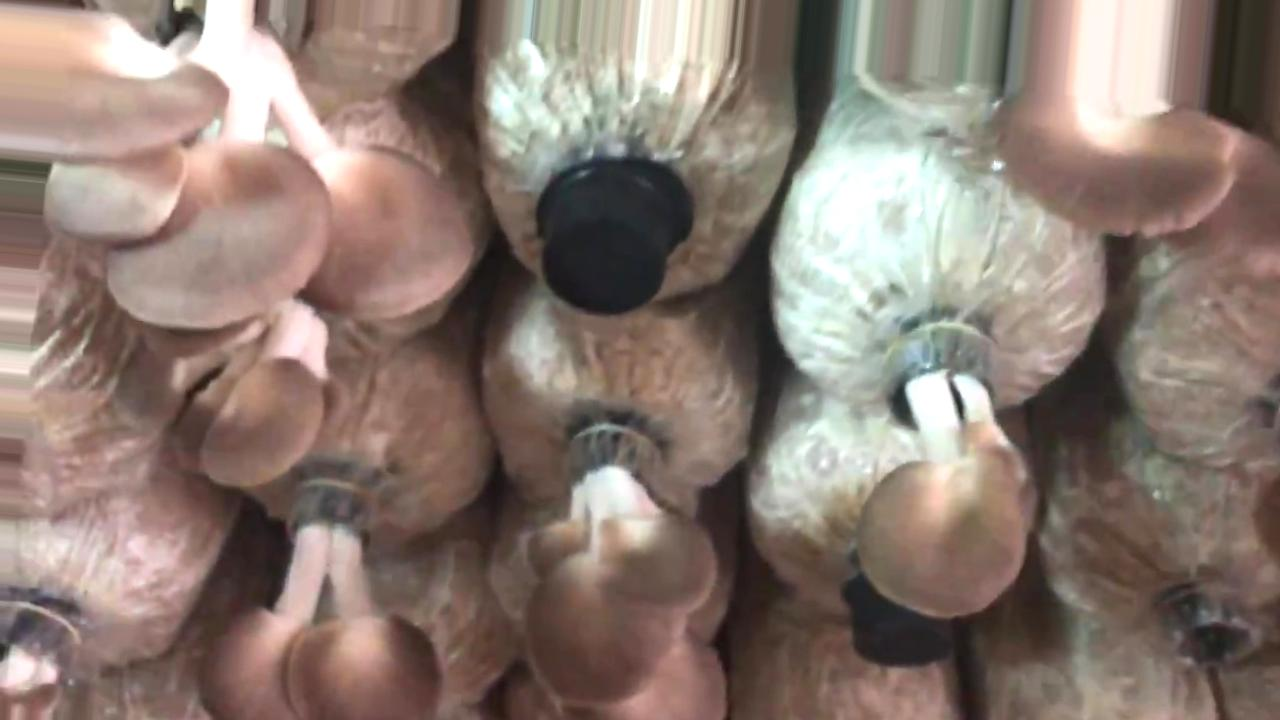nam: (1, 1, 475, 327), (524, 427, 728, 720), (994, 1, 1234, 239), (206, 479, 442, 719), (859, 327, 1027, 617), (114, 298, 348, 489)
